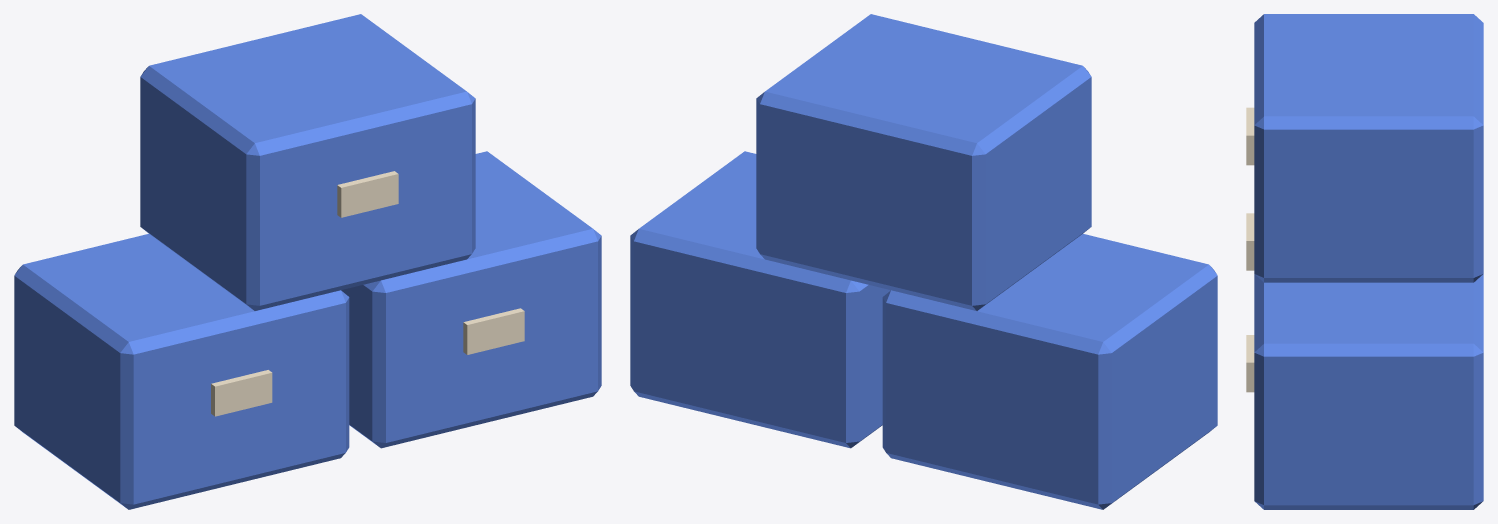
3 renders of one model, left to right at view 1: azimuth 30°, elevation 25°; view 2: azimuth 150°, elevation 25°; view 3: azimuth 270°, elevation 25°, orthographic.
Visible parts, largest first — view 1: Stacked case.002, Stacked case, Stacked case.001, Case label.002, Case label.001, Case label; view 2: Stacked case.002, Stacked case, Stacked case.001; view 3: Stacked case.002, Stacked case.001, Case label.002, Case label, Case label.001.
Part boxes in pixels (left/top/right/bottom): Stacked case.002: left=140, top=14, right=475, bottom=310; Stacked case: left=14, top=234, right=349, bottom=509; Stacked case.001: left=341, top=151, right=601, bottom=448; Case label.002: left=337, top=171, right=398, bottom=217; Case label.001: left=463, top=308, right=524, bottom=354; Case label: left=211, top=370, right=272, bottom=416; Stacked case.002: left=756, top=14, right=1091, bottom=310; Stacked case: left=882, top=234, right=1217, bottom=509; Stacked case.001: left=630, top=151, right=890, bottom=448; Stacked case.002: left=1254, top=14, right=1483, bottom=282; Stacked case.001: left=1254, top=274, right=1483, bottom=509; Case label.002: left=1246, top=107, right=1254, bottom=165; Case label: left=1246, top=213, right=1254, bottom=270; Case label.001: left=1246, top=335, right=1254, bottom=392.
Size of the model in its own units: 84 by 56 by 36.2.
